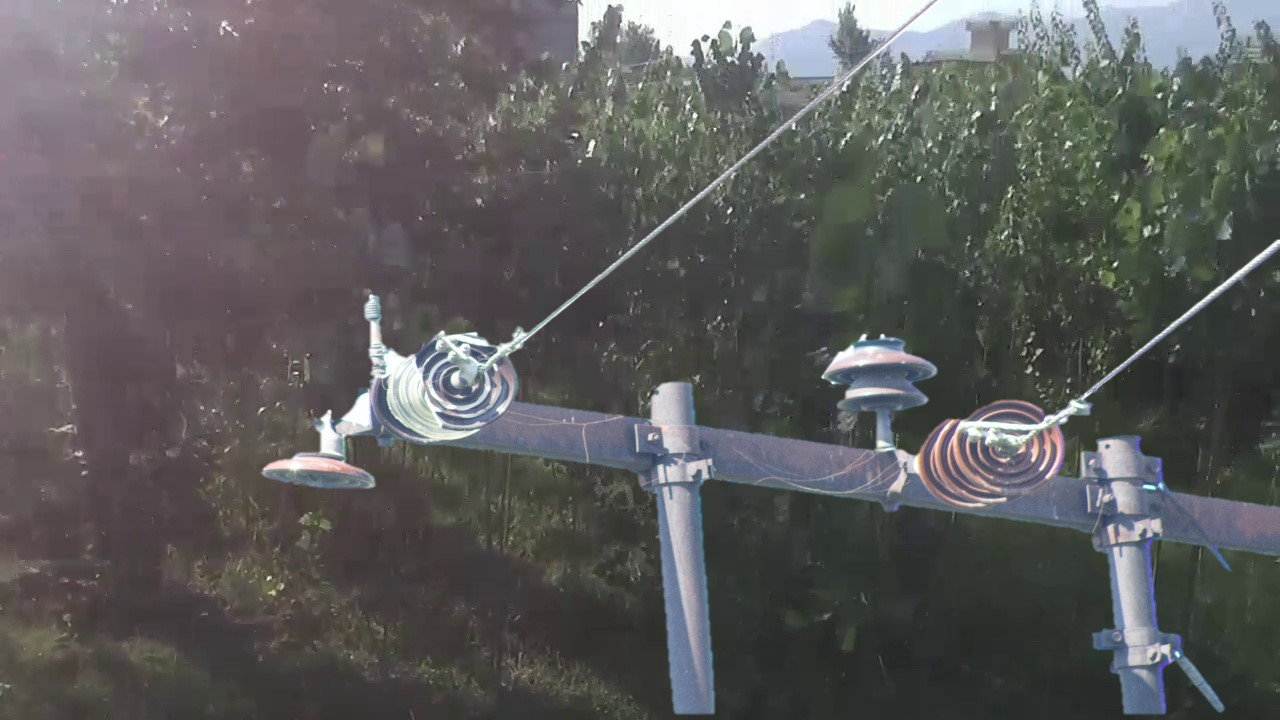defect_disc: (414, 329, 525, 436)
insulator_disc: (953, 395, 1068, 498), (261, 420, 382, 498)
